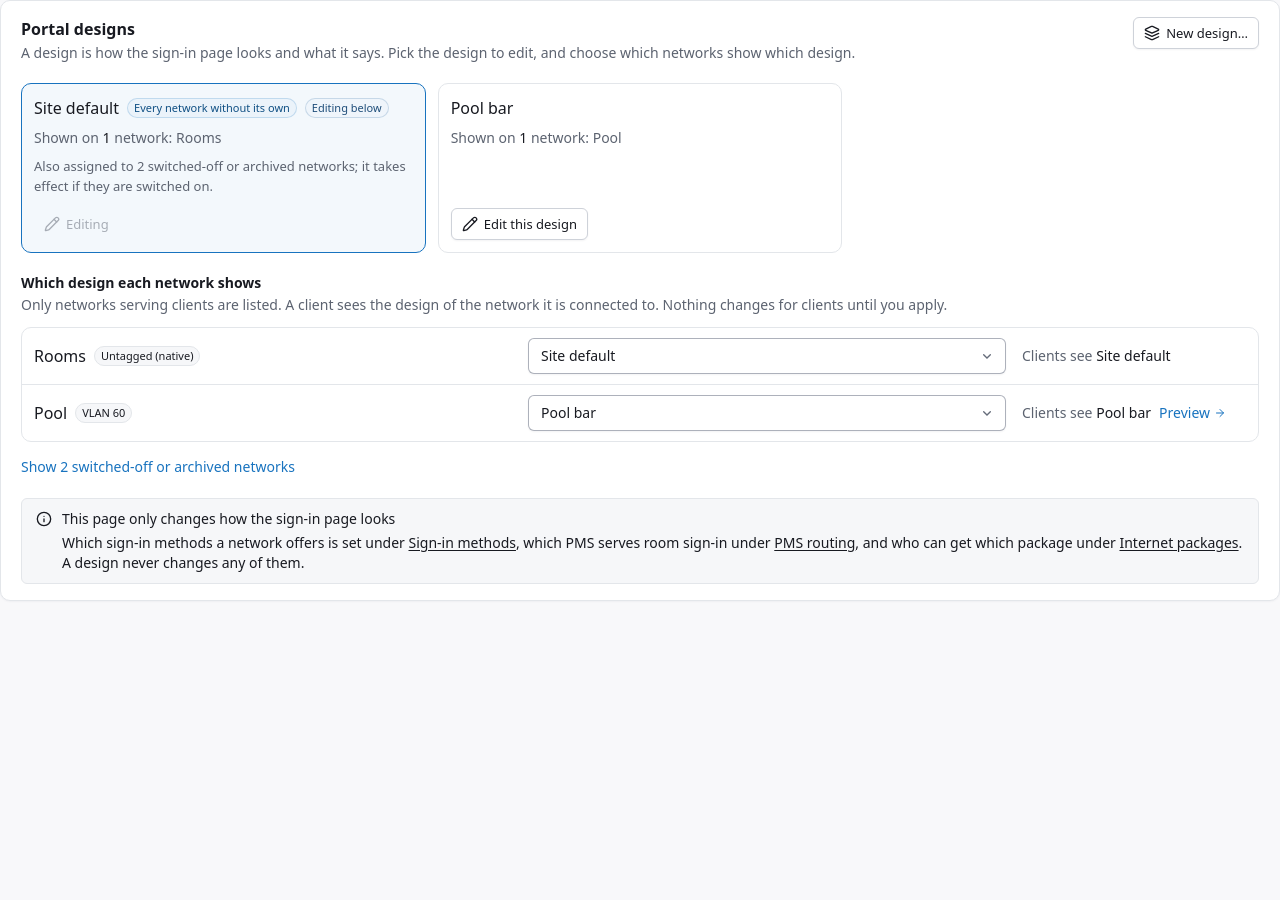
it: portal designs › lists only serving networks as choices and keeps switched-off and archived ones apart
Expected: the dropdown named "Design shown on Rooms" is shown, [528,338,1006,374]
Expected: the dropdown named "Design shown on Pool" is shown, [528,395,1006,431]
Click the button "Show 2 switched-off or archived networks".
click(158, 467)  # box [21,457,295,477]
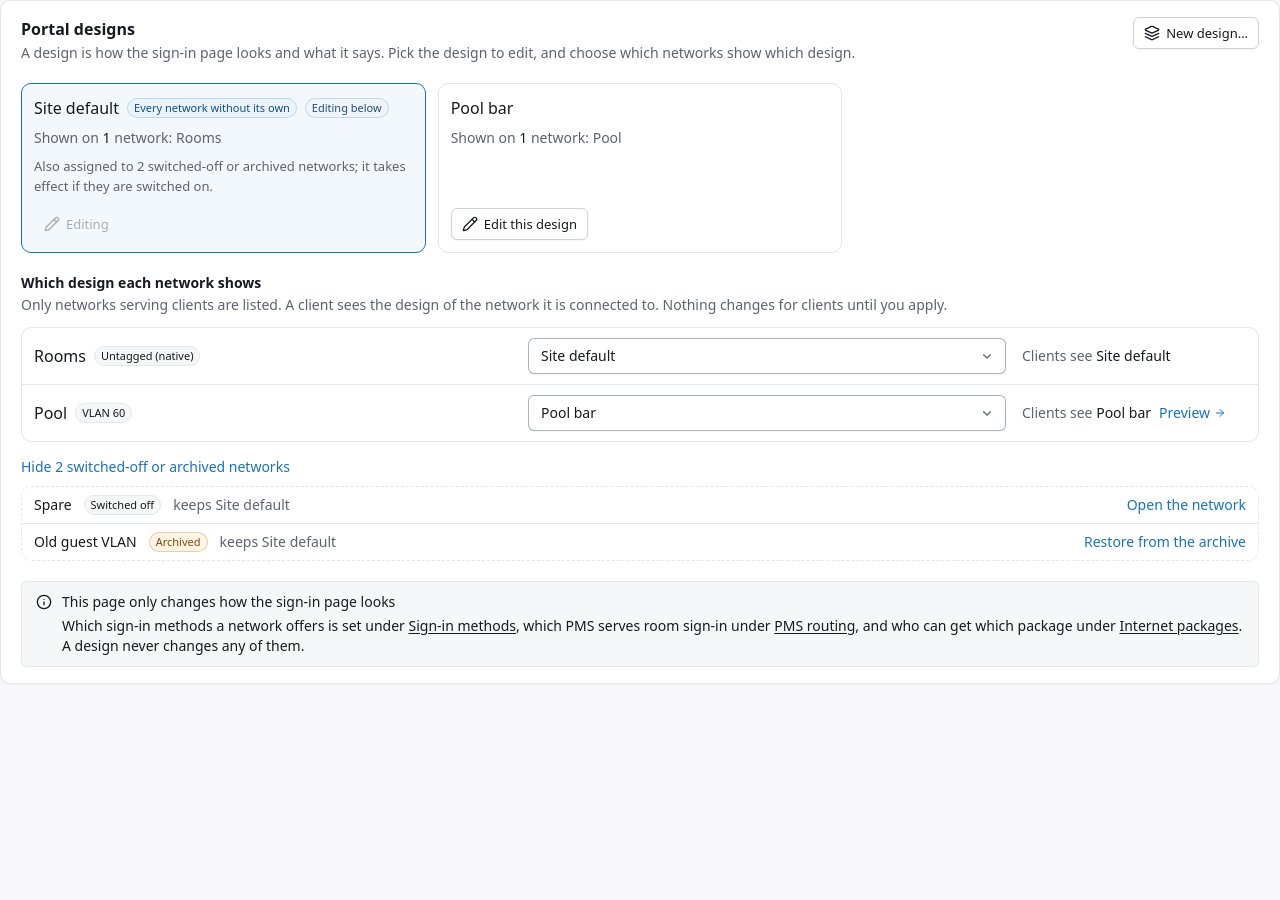
Expected: the text "Old guest VLAN" is shown, [34,532,137,552]
Expected: the text "Spare" is shown, [34,495,72,515]
Expected: the text "Archived" is shown, [149,532,208,552]
